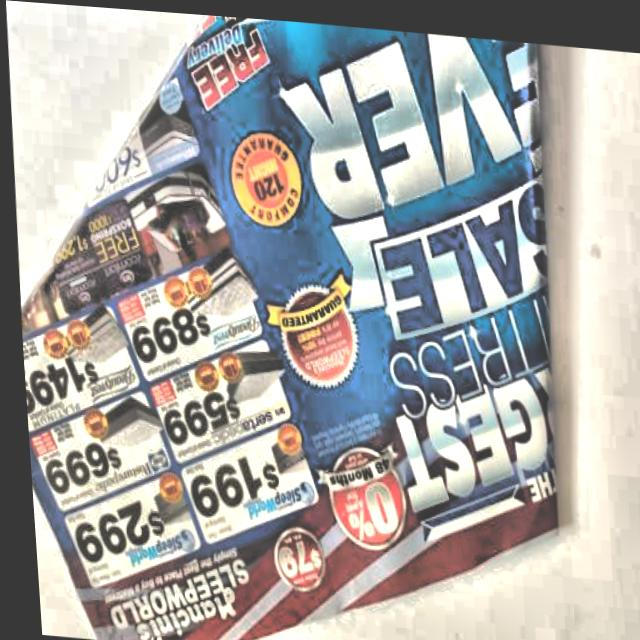Paper: (0, 0, 575, 640)
